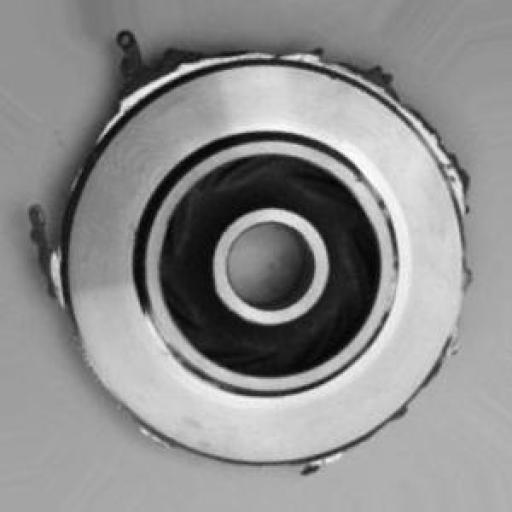defect: (21, 20, 490, 481)
